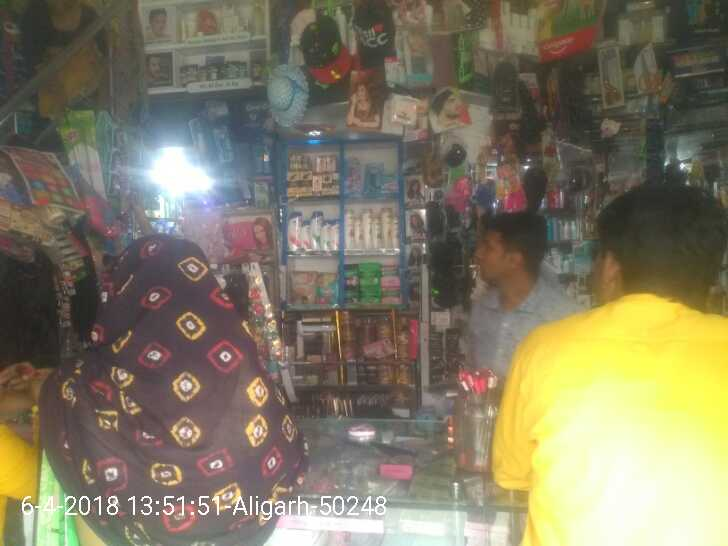venus: (363, 162, 384, 195), (345, 157, 362, 195), (384, 175, 399, 195)
